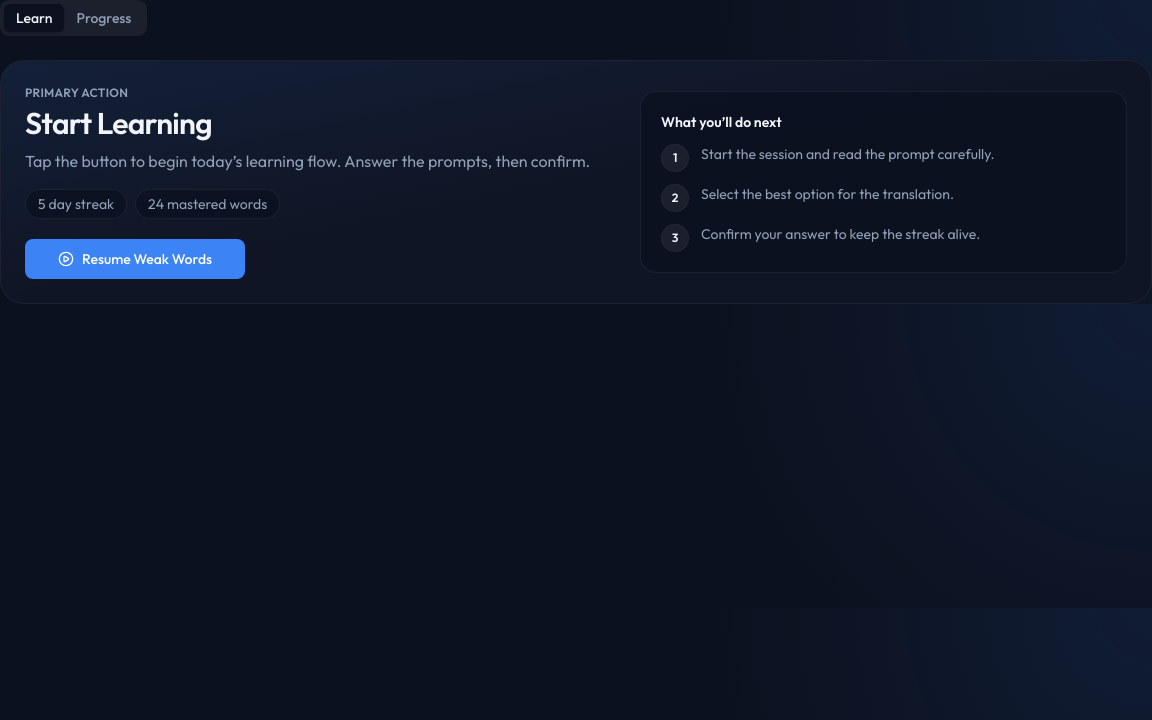
Test: DashboardOverview › renders the primary action and separates progress content behind a tab
Check: the heading "Start Learning" is shown, box [25,104,212,142]
Check: the button "Resume Weak Words" is shown, box [25,239,245,279]
Click the tab "Progress".
click(104, 18)  # box [64,4,143,32]
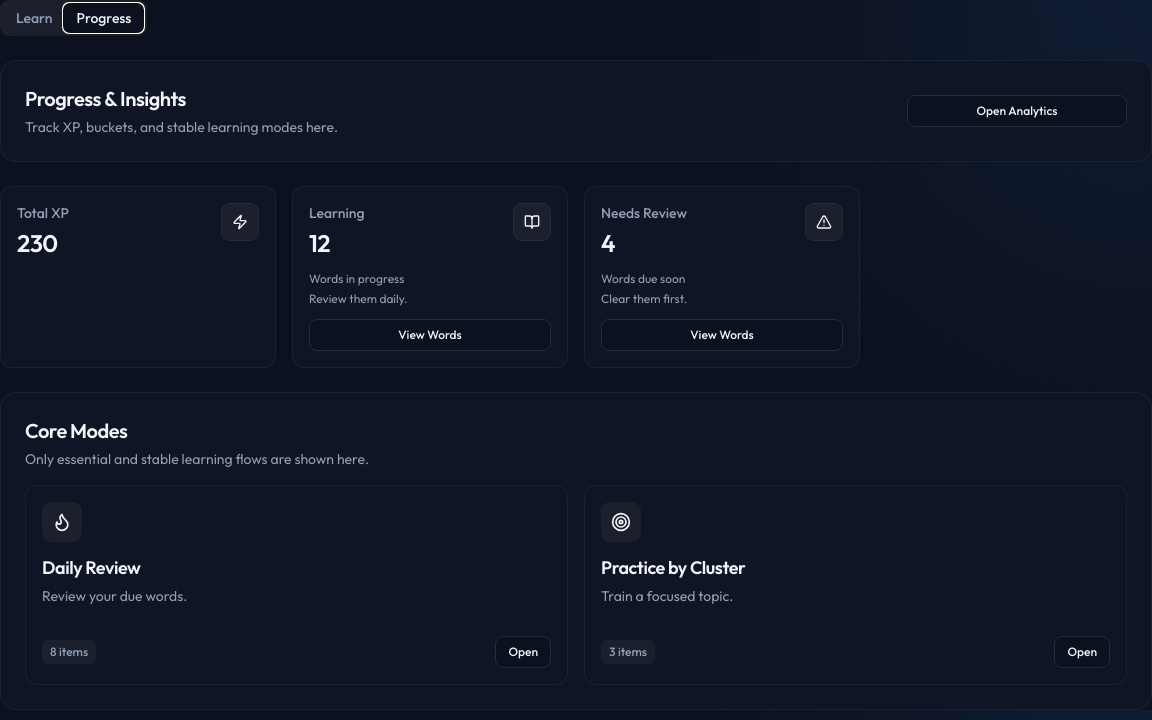
Check: the text "Total XP" is shown, box [17,203,69,223]
Check: the text "Learning" is shown, box [309,203,364,223]
Check: the text "Needs Review" is shown, box [601,203,687,223]
